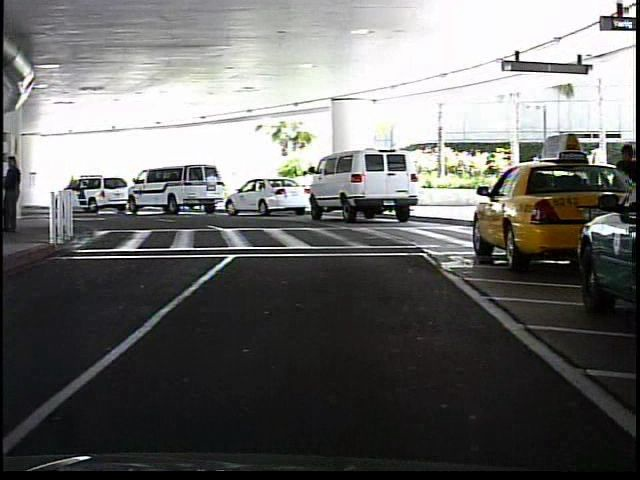person: (609, 140, 639, 259), (6, 150, 26, 232)
